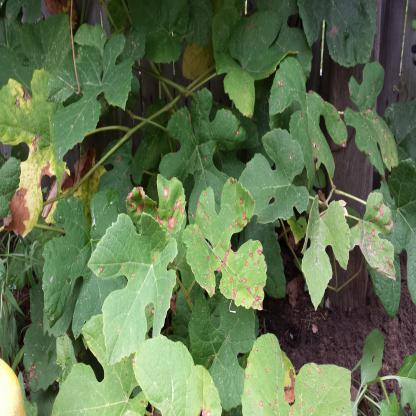grape leaf black rot: (83, 211, 183, 372), (182, 177, 271, 312), (237, 329, 356, 416), (268, 64, 347, 177), (225, 9, 295, 122), (343, 62, 401, 178), (347, 183, 403, 293)
